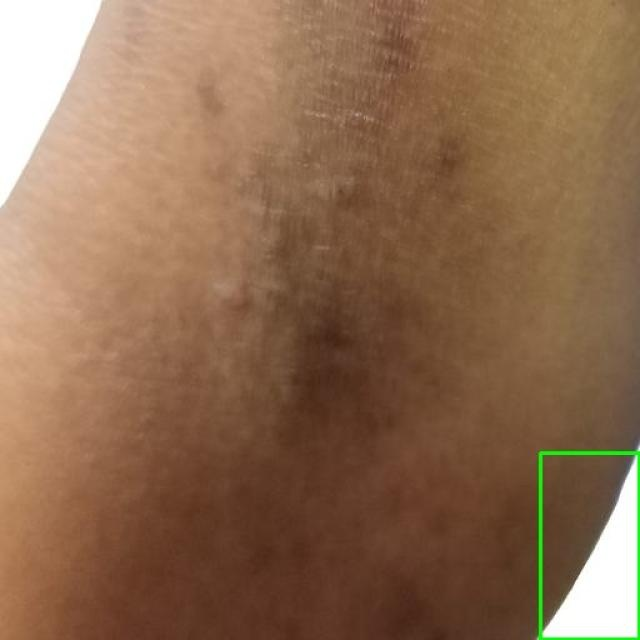Eczema: (540, 452, 639, 639)
